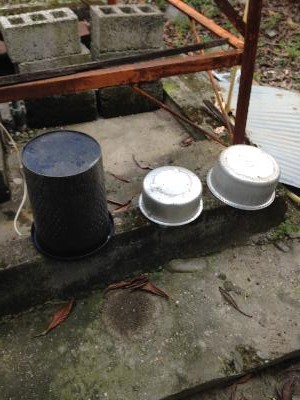bowl: (205, 141, 282, 214), (135, 163, 208, 229)
bucket: (20, 128, 120, 264)
